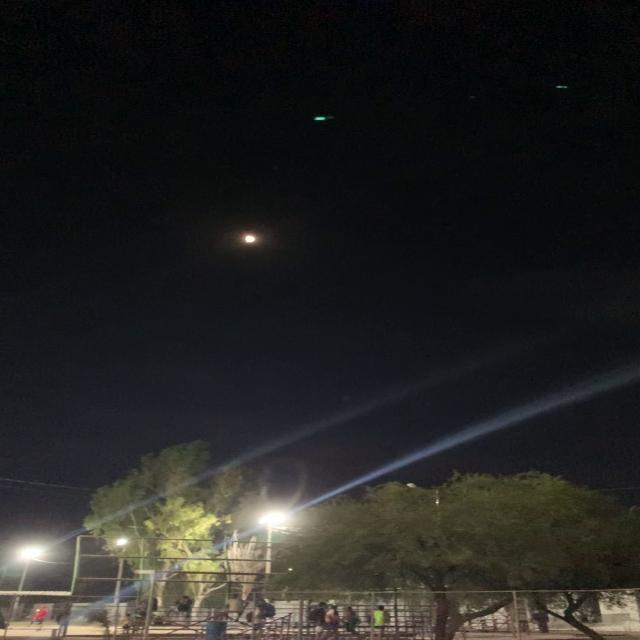moon: (228, 226, 276, 256)
